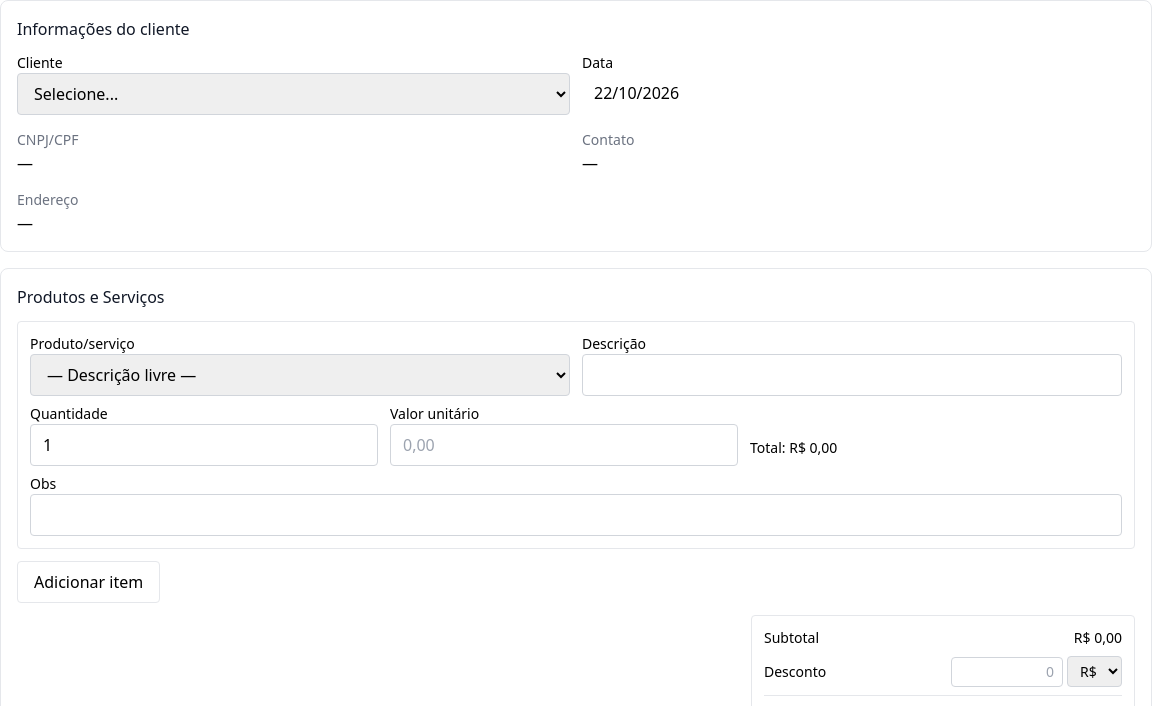
Test: PedidoForm — item de produto › produto por unidade esconde medidas e calcula qtd × valor
The width and height of the screenshot is (1152, 706).
Select "Parafuso" in the dropdown labelled "Produto/serviço": {"x": 300, "y": 375} [30,354,570,396]
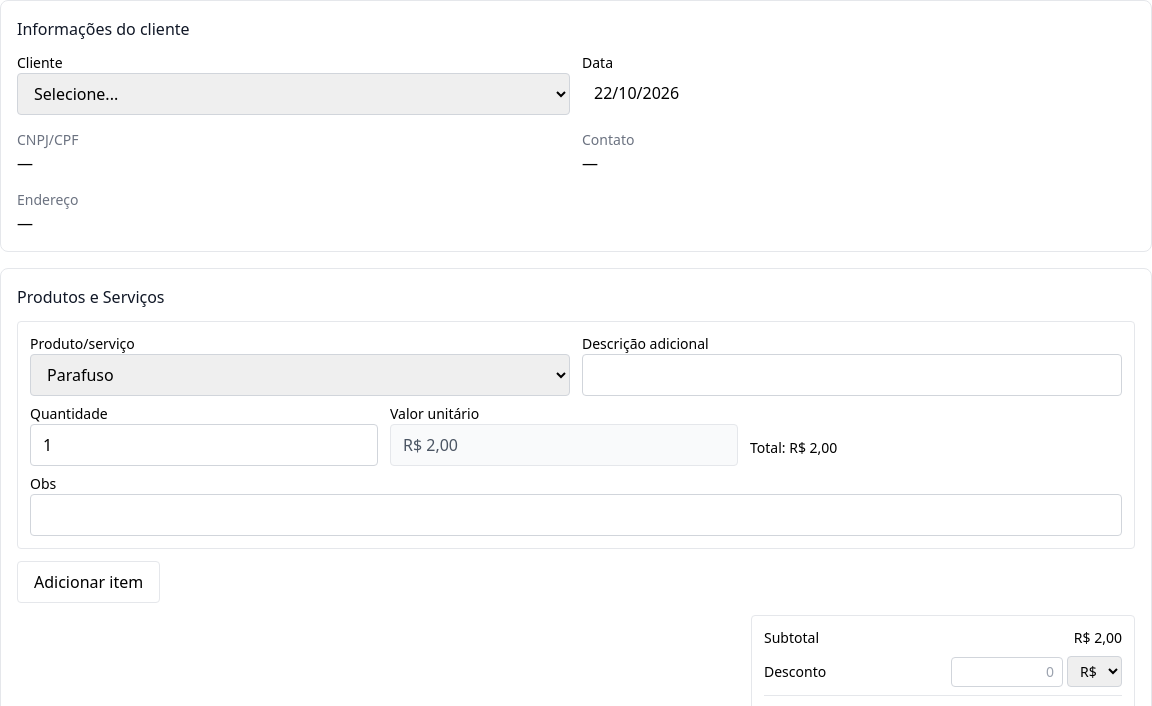
Replace the text in the field labelled "Quantidade" with "5": {"x": 204, "y": 445} [30,424,378,466]
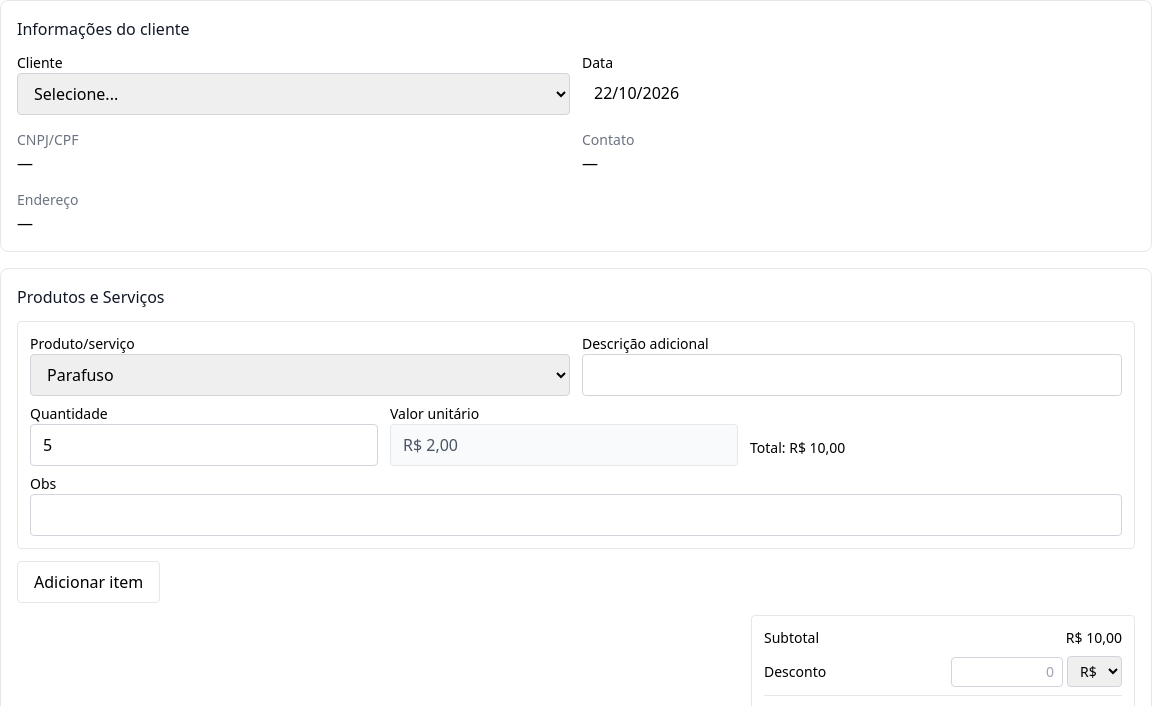
Now the text with test id "total-item-0" reads "R$ 10,00", box [789,438,845,457]
